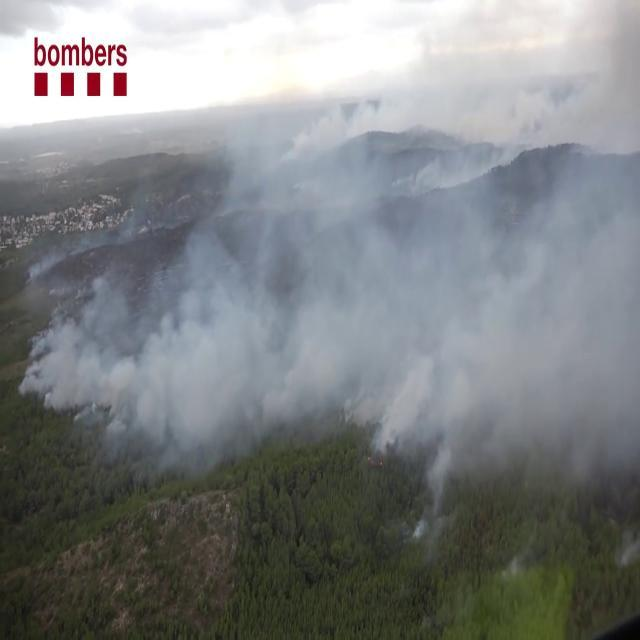Smoke: (22, 18, 640, 496)
